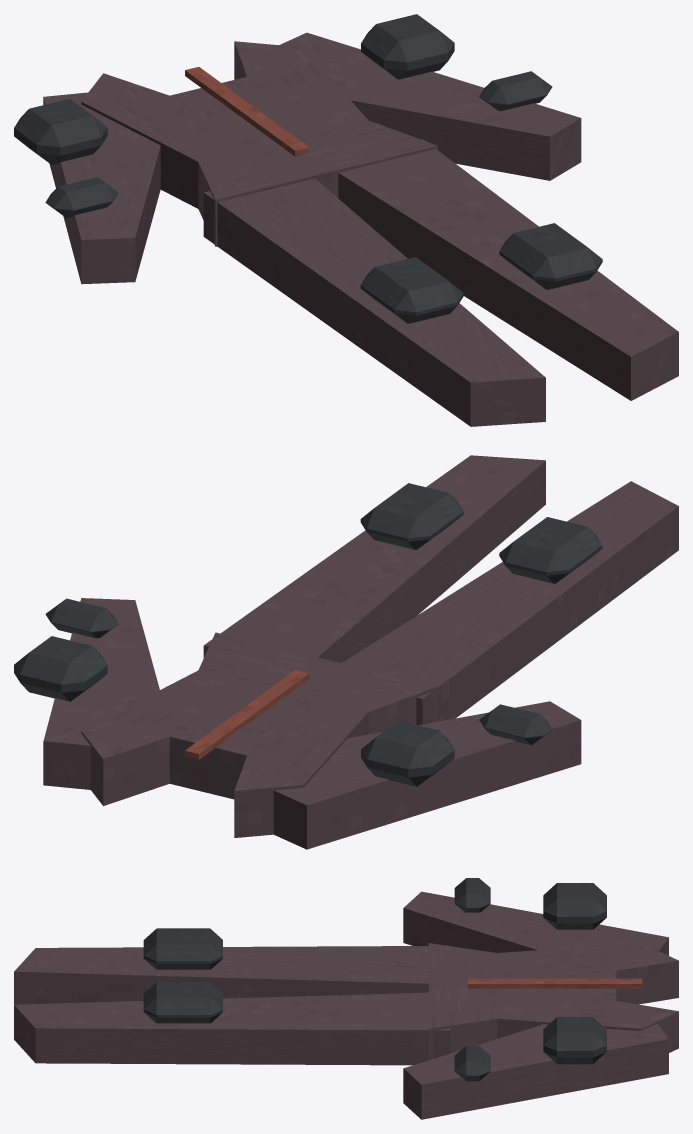
The model's file is touring_suit.glb.
3 views of the same model, one above another, from view 1: azimuth 30°, elevation 25°; view 2: azimuth 150°, elevation 25°; view 3: azimuth 270°, elevation 25° (orthographic). The views are drawn at different scales.
Parts seen in each view (by area): view 1: block_trouser leg (×2), block_sleeve (×2), block_tailored torso, block_knee pad (×2), block_shoulder guard (×2), block_elbow guard (×2), block_center seam; view 2: block_trouser leg (×2), block_tailored torso, block_sleeve (×2), block_knee pad (×2), block_shoulder guard (×2), block_elbow guard (×2), block_center seam; view 3: block_trouser leg (×2), block_sleeve (×2), block_tailored torso, block_knee pad (×2), block_shoulder guard (×2), block_elbow guard (×2), block_center seam.
Part boxes in pixels (x1,y1,x2,y2): block_trouser leg (×2): (203, 139, 678, 426); block_sleeve (×2): (43, 32, 581, 284); block_tailored torso: (81, 41, 437, 246); block_knee pad (×2): (360, 223, 602, 323); block_shoulder guard (×2): (14, 14, 454, 164); block_elbow guard (×2): (45, 71, 552, 217); block_center seam: (185, 67, 309, 156); block_trouser leg (×2): (203, 455, 678, 725); block_tailored torso: (81, 632, 437, 837); block_sleeve (×2): (43, 598, 581, 849); block_knee pad (×2): (360, 483, 602, 583); block_shoulder guard (×2): (14, 636, 454, 786); block_elbow guard (×2): (45, 598, 552, 745); block_center seam: (185, 670, 309, 759); block_trouser leg (×2): (14, 945, 450, 1065); block_sleeve (×2): (403, 891, 668, 1119); block_tailored torso: (428, 943, 678, 1060); block_knee pad (×2): (143, 928, 222, 1023); block_shoulder guard (×2): (543, 883, 606, 1064); block_elbow guard (×2): (454, 878, 490, 1081); block_center seam: (467, 978, 642, 988).
Size of the model in its own units: 0.693 by 0.1093 by 1.01.
Materials: 1 (1 with a texture image).
